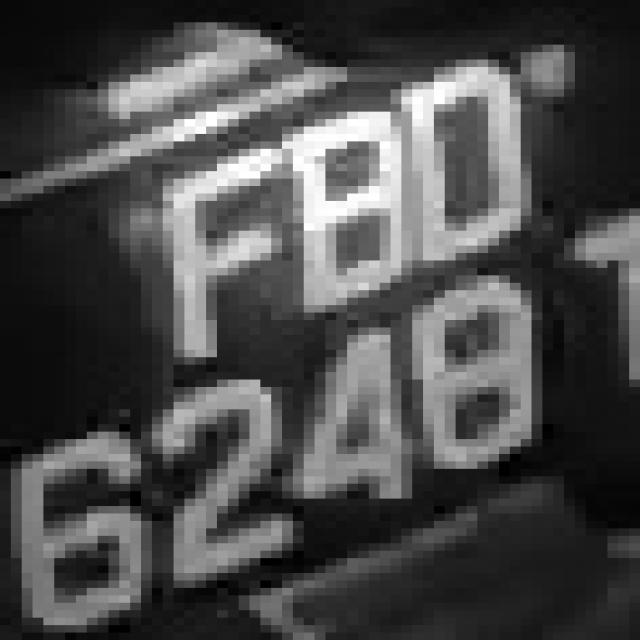2: (119, 387, 315, 551)
4: (249, 350, 445, 528)
6: (11, 394, 152, 640)
8: (412, 275, 586, 484)
B: (249, 75, 445, 312)
D: (369, 52, 553, 231)
F: (108, 126, 314, 364)
